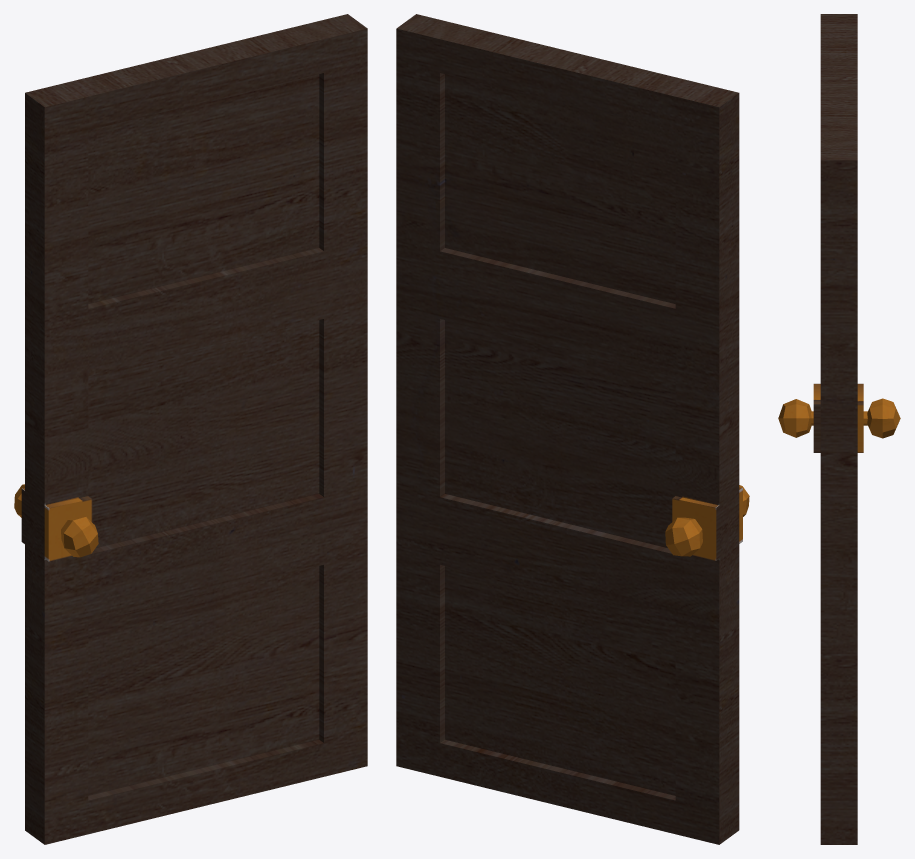
File: Puerta.obj
3 views of the same model, side by side, from view 1: azimuth 30°, elevation 25°; view 2: azimuth 150°, elevation 25°; view 3: azimuth 270°, elevation 25° (orthographic). The views are drawn at different scales.
Visible parts, largest first — view 1: Puerta5:PUERTA_Plano_002; view 2: Puerta5:PUERTA_Plano_002; view 3: Puerta5:PUERTA_Plano_002.
Part boxes in pixels (left/top/right/bottom): Puerta5:PUERTA_Plano_002: left=14, top=14, right=367, bottom=844; Puerta5:PUERTA_Plano_002: left=396, top=14, right=749, bottom=844; Puerta5:PUERTA_Plano_002: left=778, top=14, right=900, bottom=844.
Bounding box in the file's own units: 2.18 × 4.76 × 0.7712.
1 material, 1 textured.
